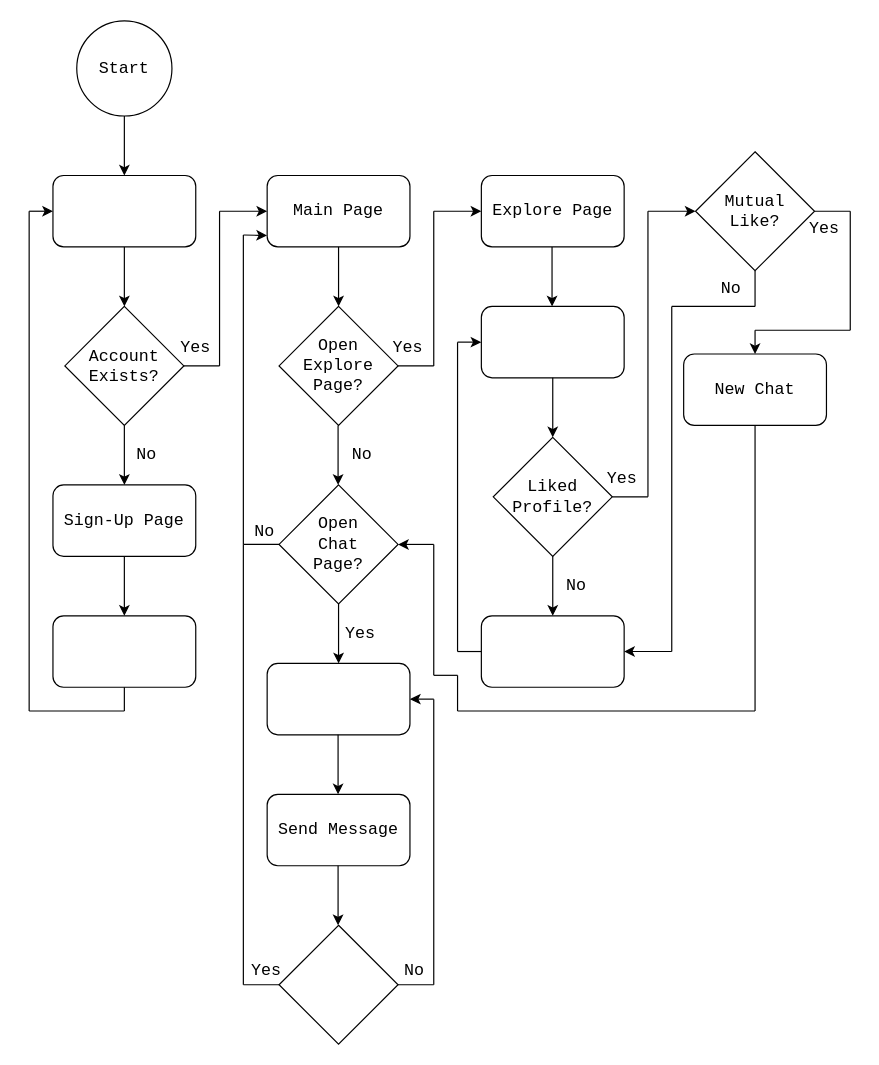
The diagram is 879 pixels wide and 1065 high, and some of its shapes have lost their labels. The centre of each missing label's shape, as x and y in pixels:
"Account Creation" belongs at pixel 124 651.
"Exit Chat?" belongs at pixel 338 984.
"Login Page" belongs at pixel 124 210.
"Next Profile" belongs at pixel 552 651.
"Select Chat" belongs at pixel 338 698.
"View Profile" belongs at pixel 552 341.
